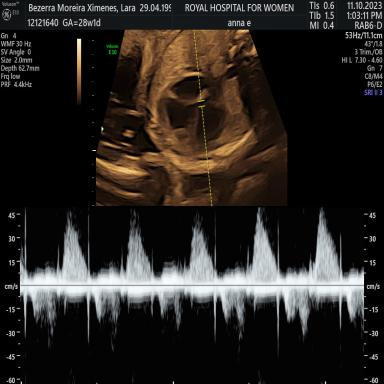Ultrasound-Waves: (29, 208, 362, 384)
